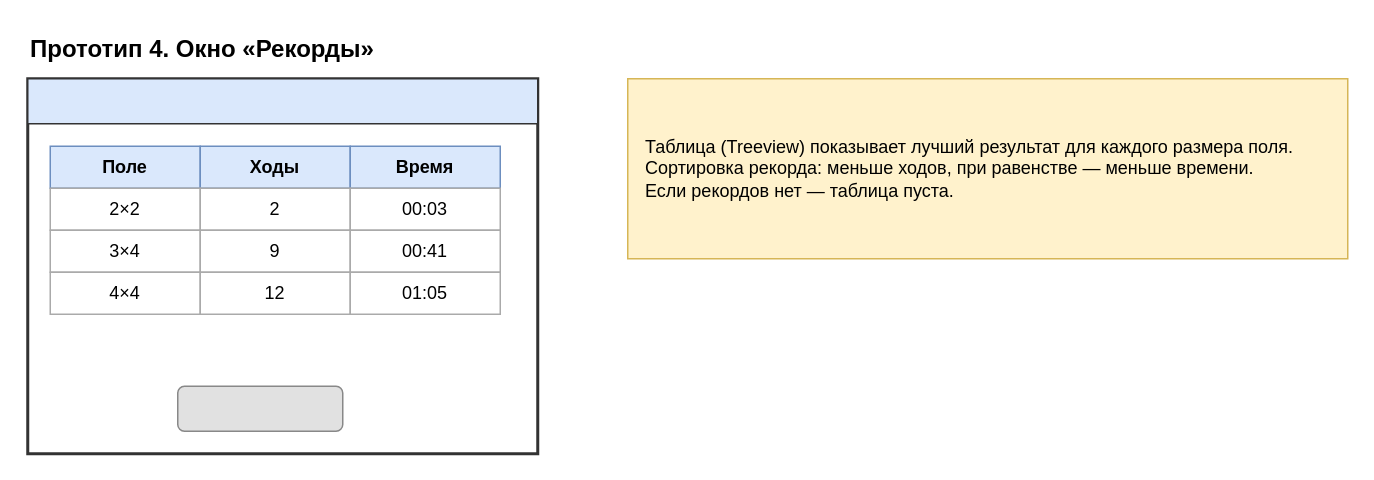
This 1374x480 diagram has some shape labels left out. Each missing label, with the centre of its shape:
Закрыть: [259,408]
Рекорды: [282,100]
